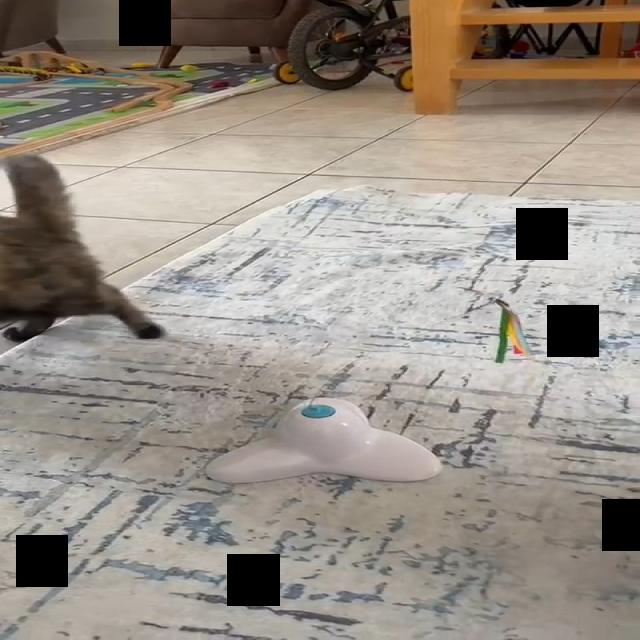authorized: (0, 152, 167, 342)
